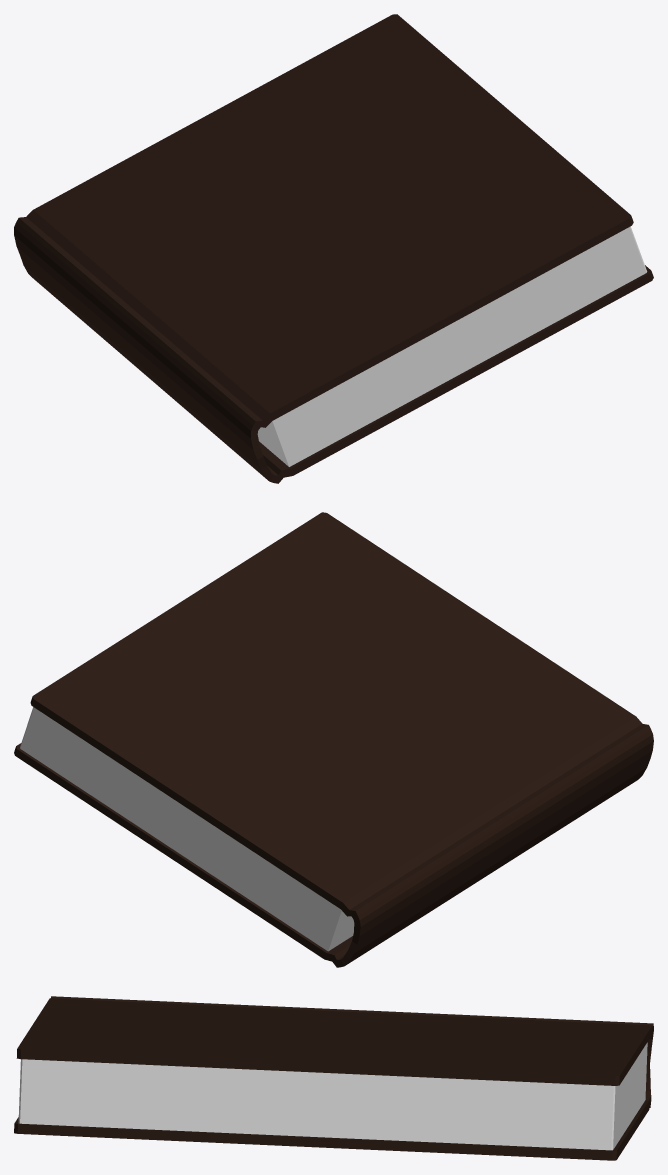
Rendered from LivrosB.fbx.
The picture shows the model from 3 angles, top to bottom: view 1: azimuth 30°, elevation 25°; view 2: azimuth 150°, elevation 25°; view 3: azimuth 270°, elevation 25°; orthographic projection. The views are drawn at different scales.
Parts seen in each view (by area): view 1: LivroPuzzle.007; view 2: LivroPuzzle.007; view 3: LivroPuzzle.007.
Boxes of the visible parts, x1,y1,x2,y2 form: LivroPuzzle.007: [14, 14, 653, 483]; LivroPuzzle.007: [14, 512, 653, 967]; LivroPuzzle.007: [14, 996, 653, 1160].
Size of the model in its own units: 25.75 by 11.64 by 30.6.
